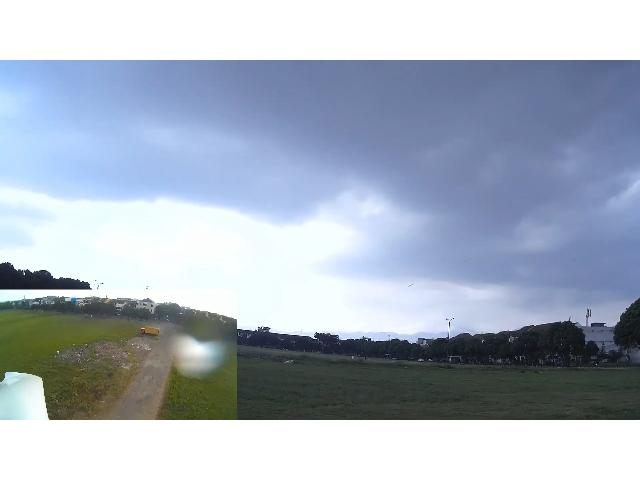Anti-Drone: (400, 281, 422, 291)
